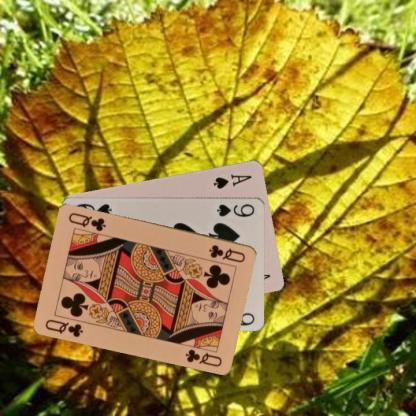9s: (214, 201, 256, 218)
As: (211, 171, 253, 190)
Qc: (43, 316, 85, 338), (206, 242, 247, 264)
